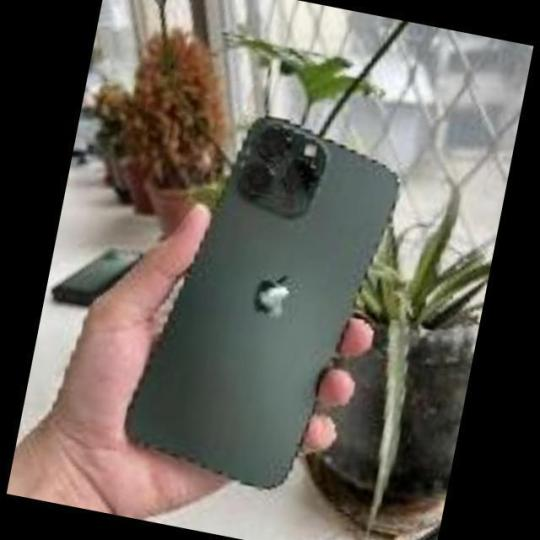phone: (119, 115, 406, 489)
